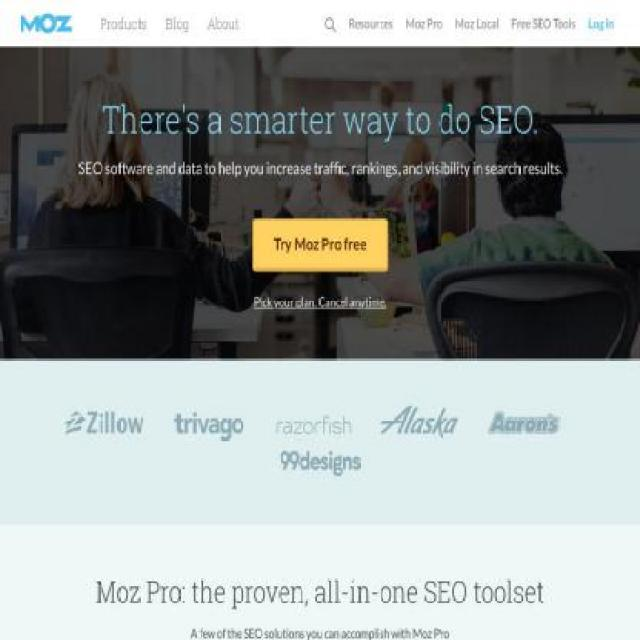button: (252, 218, 388, 272), (505, 0, 583, 48), (89, 0, 157, 48), (342, 0, 400, 48), (448, 0, 506, 48), (197, 0, 249, 48), (398, 0, 449, 48), (156, 0, 198, 48), (582, 0, 622, 48), (319, 0, 343, 48)
